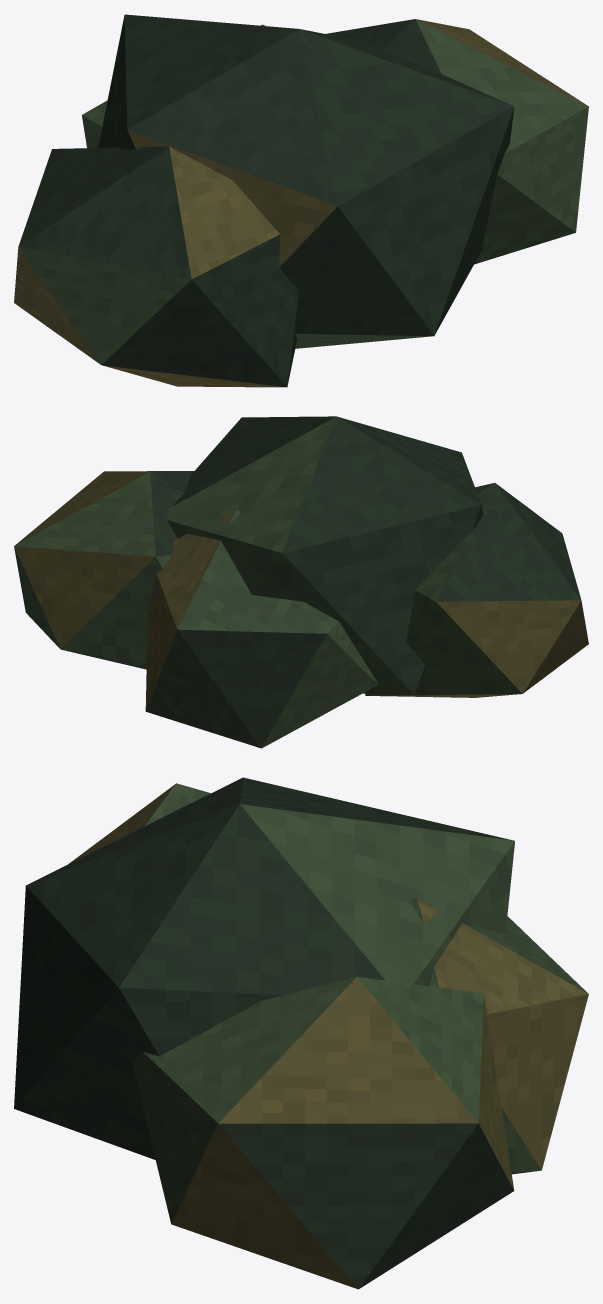
The model's file is bush.glb.
3 renders of one model, top to bottom at view 1: azimuth 30°, elevation 25°; view 2: azimuth 150°, elevation 25°; view 3: azimuth 270°, elevation 25°, orthographic. The views are drawn at different scales.
Parts seen in each view (by area): view 1: bush; view 2: bush; view 3: bush.
Part boxes in pixels (bbox=[...]): bush: bbox=[14, 14, 588, 387]; bush: bbox=[14, 416, 588, 748]; bush: bbox=[14, 777, 588, 1289].
Size of the model in its own units: 1.58 by 0.8025 by 1.15.
Materials: 1 (1 with a texture image).
